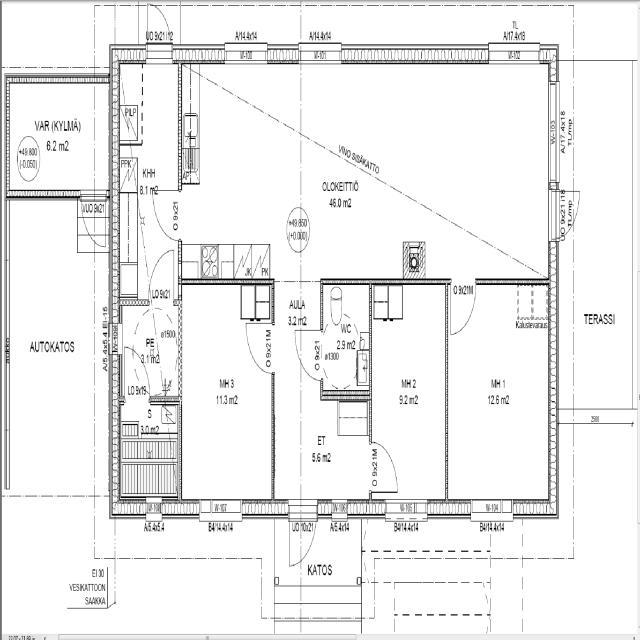door: (370, 433, 400, 494), (244, 318, 274, 376), (449, 283, 476, 338), (150, 194, 179, 241), (146, 3, 173, 52), (294, 330, 318, 382), (149, 249, 174, 297)
window: (545, 77, 562, 195), (143, 493, 165, 517)
zone: (447, 279, 555, 513), (180, 282, 274, 511), (371, 282, 450, 508), (10, 76, 110, 203), (118, 64, 184, 178), (115, 400, 182, 499), (114, 301, 180, 400), (317, 280, 371, 398), (115, 189, 139, 296), (287, 502, 318, 572), (78, 200, 107, 248)
